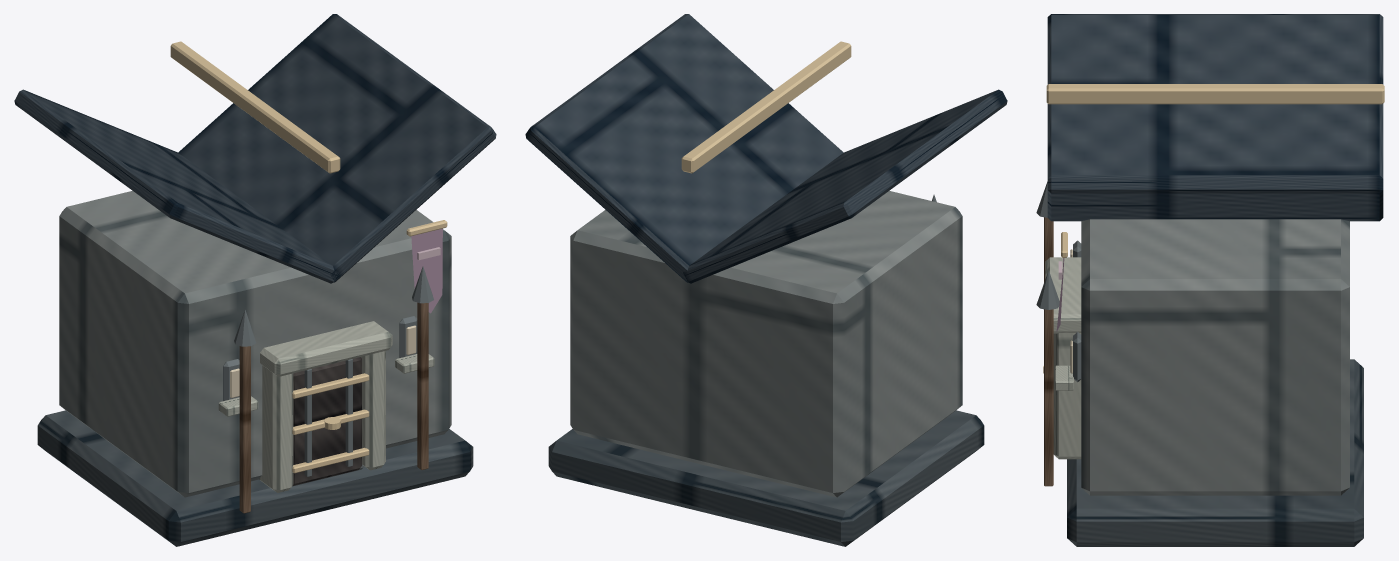
The model's file is Barracks.glb.
3 views of the same model, side by side, from view 1: azimuth 30°, elevation 25°; view 2: azimuth 150°, elevation 25°; view 3: azimuth 270°, elevation 25° (orthographic). The views are drawn at different scales.
Visible parts, largest first — view 1: Barracks body, Barracks roof/right, Barracks raised sill, Barracks roof/left, Two oak gate leaves.001, Lintel crown.001, Barracks roof/ridge, Gate pier.002, Gate pier.003, Training spears, Training spears.001, Hanging heraldic cloth (+4 smaller); view 2: Barracks body, Barracks roof/right, Barracks raised sill, Barracks roof/left, Barracks roof/ridge; view 3: Barracks body, Barracks roof/left, Barracks raised sill, Barracks roof/right, Barracks roof/ridge, Gate pier.003, Lintel crown.001, Training spears.001, Spear tip.001, Window sill.003, Training spears, Window recessed iron.003.
Part boxes in pixels (bbox=[...]): Barracks body: bbox=[59, 191, 451, 497]; Barracks roof/right: bbox=[178, 14, 496, 282]; Barracks raised sill: bbox=[37, 410, 473, 546]; Barracks roof/left: bbox=[14, 89, 338, 283]; Two oak gate leaves.001: bbox=[292, 357, 361, 485]; Lintel crown.001: bbox=[260, 321, 392, 376]; Barracks roof/ridge: bbox=[170, 41, 340, 173]; Gate pier.002: bbox=[259, 365, 293, 492]; Gate pier.003: bbox=[361, 351, 385, 470]; Training spears: bbox=[239, 346, 250, 513]; Training spears.001: bbox=[417, 302, 428, 469]; Hanging heraldic cloth: bbox=[411, 228, 442, 313]; Barracks body: bbox=[570, 191, 962, 497]; Barracks roof/right: bbox=[525, 14, 843, 282]; Barracks raised sill: bbox=[548, 410, 984, 546]; Barracks roof/left: bbox=[683, 89, 1007, 283]; Barracks roof/ridge: bbox=[681, 41, 851, 173]; Barracks body: bbox=[1081, 219, 1349, 495]; Barracks roof/left: bbox=[1047, 14, 1383, 178]; Barracks raised sill: bbox=[1067, 359, 1363, 546]; Barracks roof/right: bbox=[1047, 175, 1383, 221]; Barracks roof/ridge: bbox=[1046, 84, 1384, 104]; Gate pier.003: bbox=[1053, 333, 1081, 459]; Lintel crown.001: bbox=[1045, 257, 1081, 333]; Training spears.001: bbox=[1044, 309, 1053, 486]; Spear tip.001: bbox=[1036, 270, 1059, 309]; Window sill.003: bbox=[1055, 365, 1073, 390]; Training spears: bbox=[1044, 217, 1053, 282]; Window recessed iron.003: bbox=[1073, 331, 1081, 382].
Size of the model in its own units: 4.57 by 4.85 by 3.96.
Materials: 13 (6 with a texture image).
